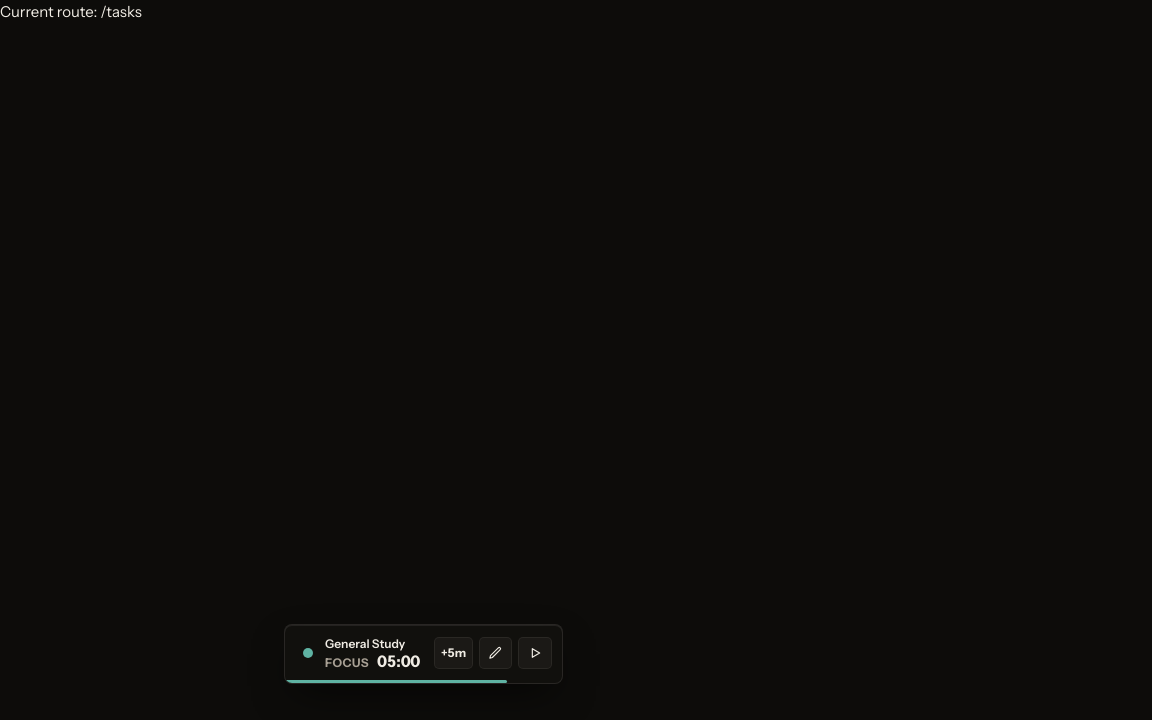
FocusStudyHUD › Distraction Scratchpad › opens and closes scratchpad popover on button click
Note: Open scratchpad
Click the button named "Distraction scratchpad" at (496, 653), box [479,637,512,669]
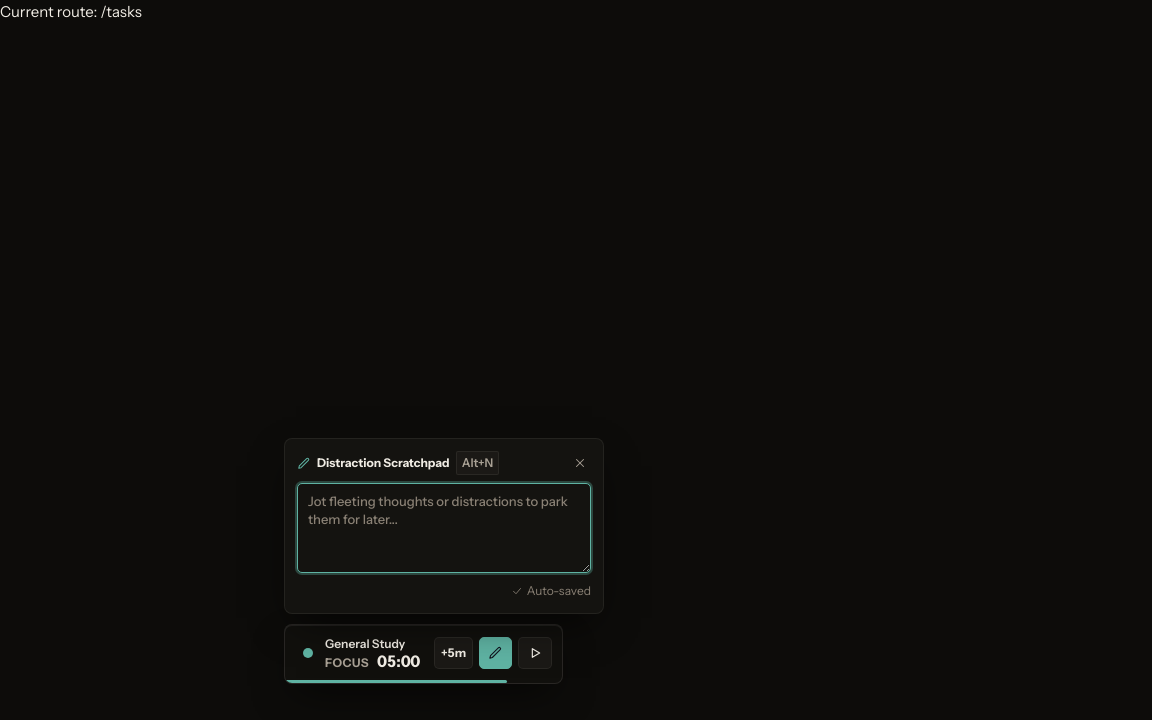
Check: the button named "Distraction scratchpad" is expanded, box [479,637,512,669]
Check: the dialog "Distraction Scratchpad" is shown, box [284,438,604,614]
Note: Close scratchpad via close button
Click the button named "Close scratchpad" at (580, 463), box [569,452,591,474]
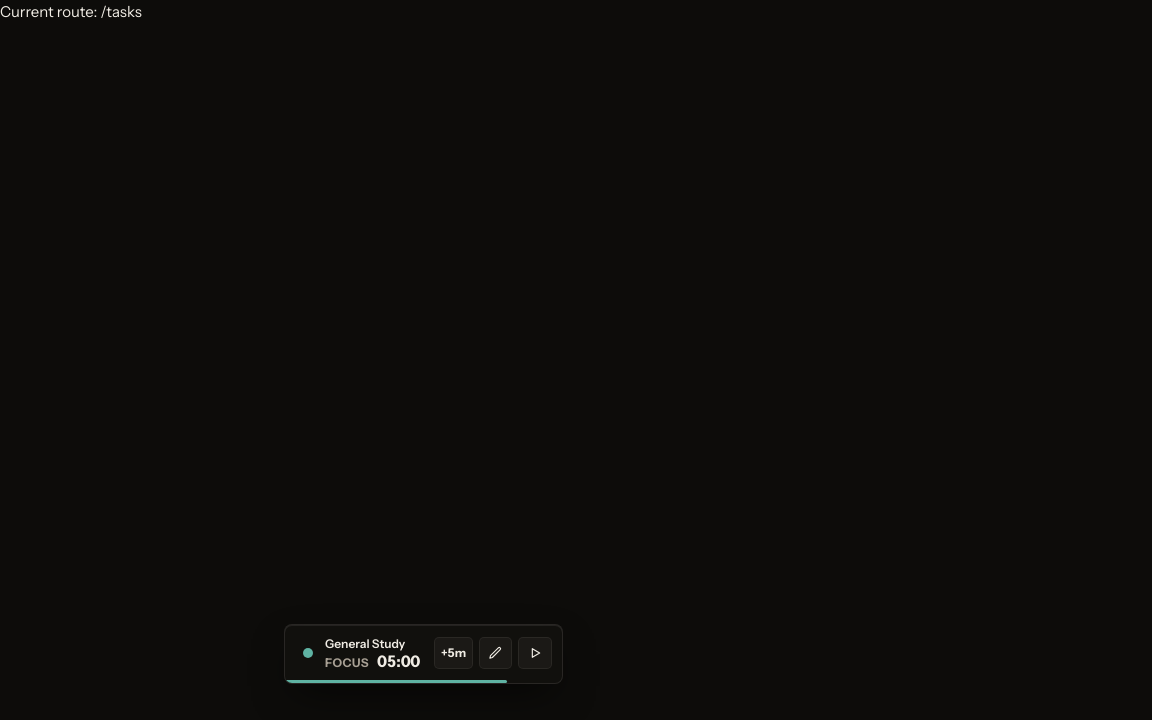
Check: the dialog is gone
